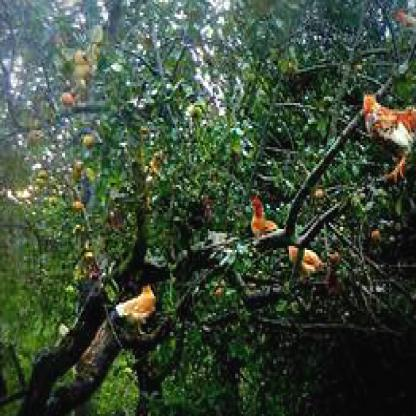chicken: (360, 96, 416, 180), (116, 282, 156, 336), (250, 196, 280, 236)
